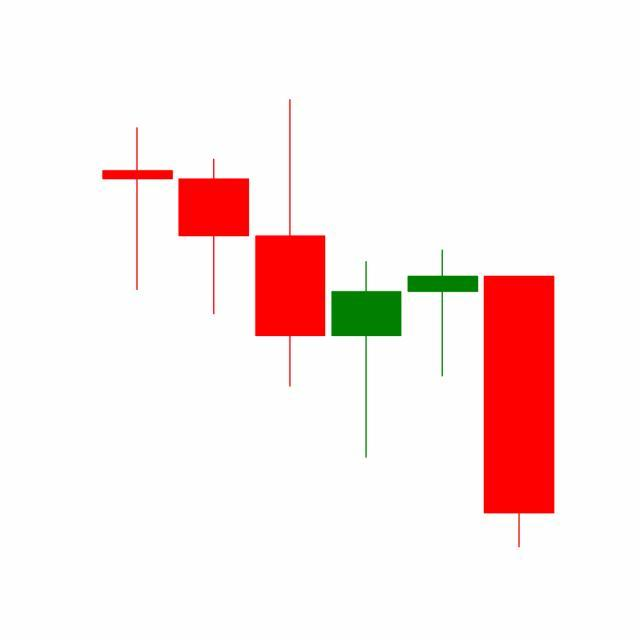Spinning Top: (404, 249, 482, 379)
